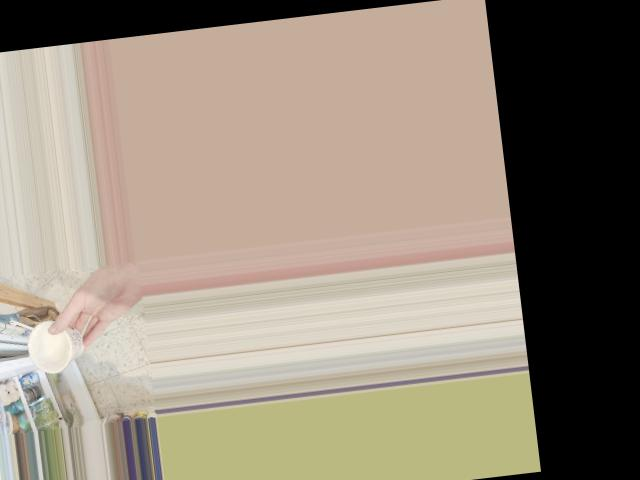cotage: (25, 314, 89, 368)
